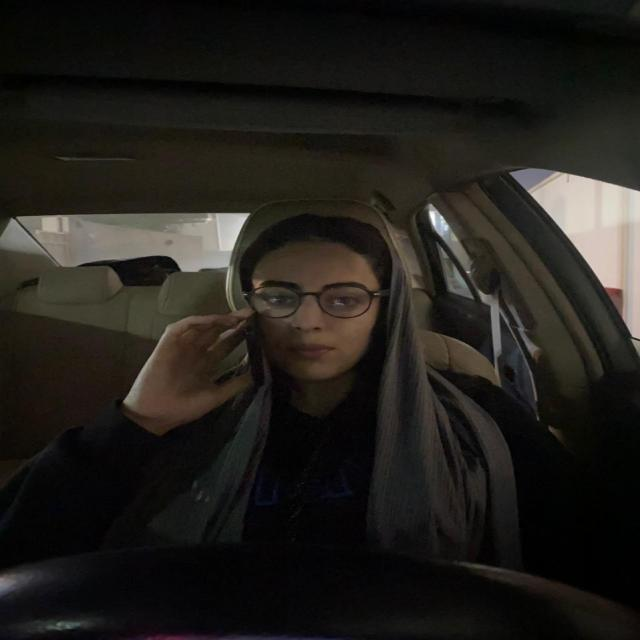mobile: (236, 310, 274, 390)
person: (250, 235, 384, 382)
